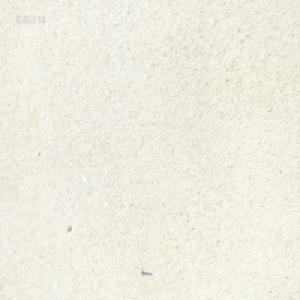Nail: (140, 268, 151, 276)
